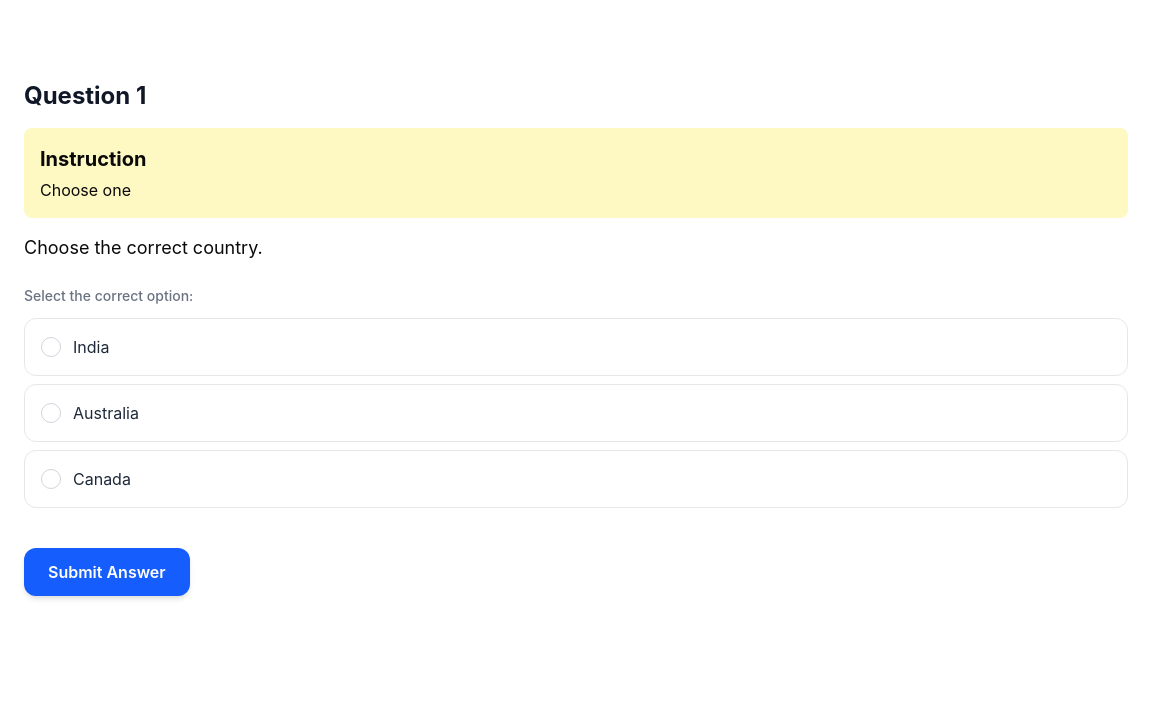
Scenario: QuestionPage - Reading & Listening MCQs › interacts and submits MCQ Single Choice question
Check: the text "Choose the correct country." is shown, box [24,237,263,258]
Note: Click Australia option
Click the text "Australia" at x=106, y=413, box [73,403,139,423]
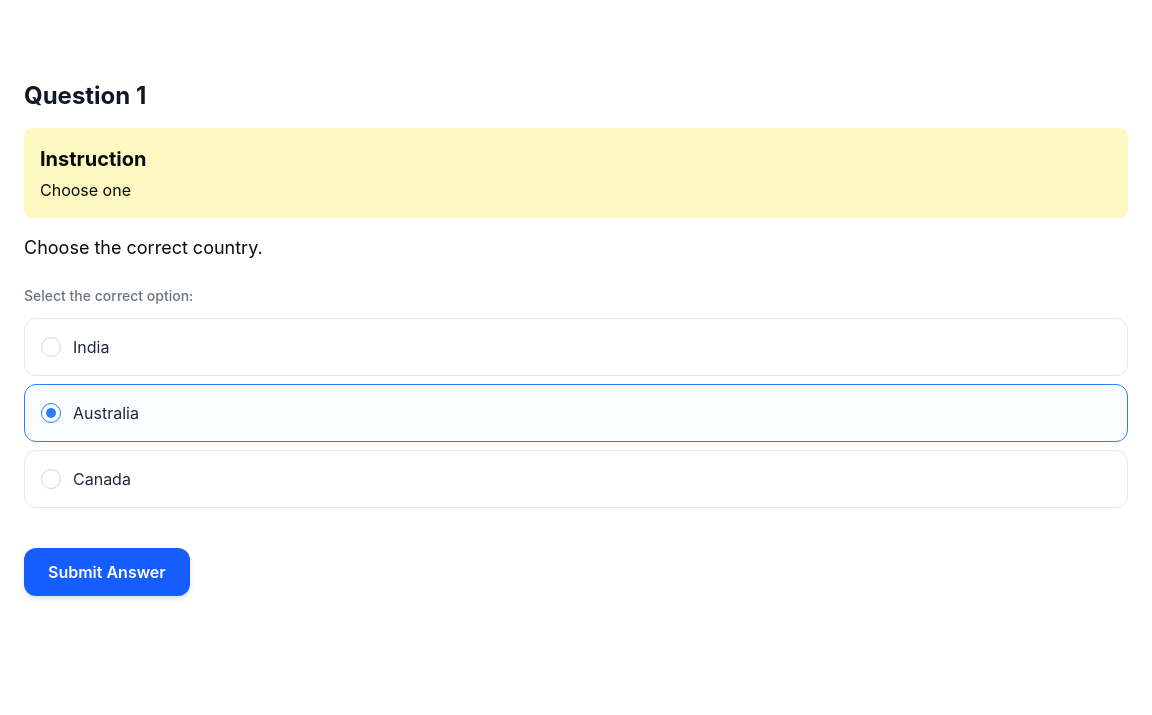
Note: Click Submit
Click the button "Submit Answer" at x=107, y=572, box [24,548,190,596]
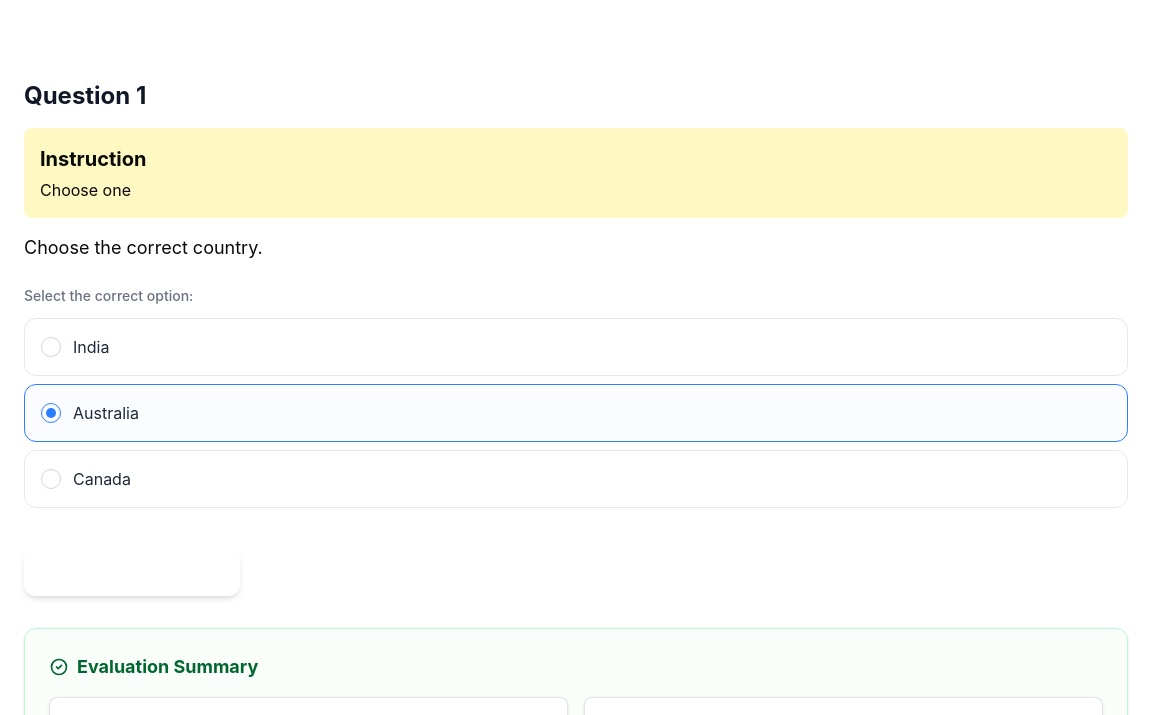
Check: the heading "Evaluation Summary" is shown, box [49,656,258,677]
Note: Click Retry
Click the button "Retry / Practice Again" at x=132, y=572, box [24,548,240,596]
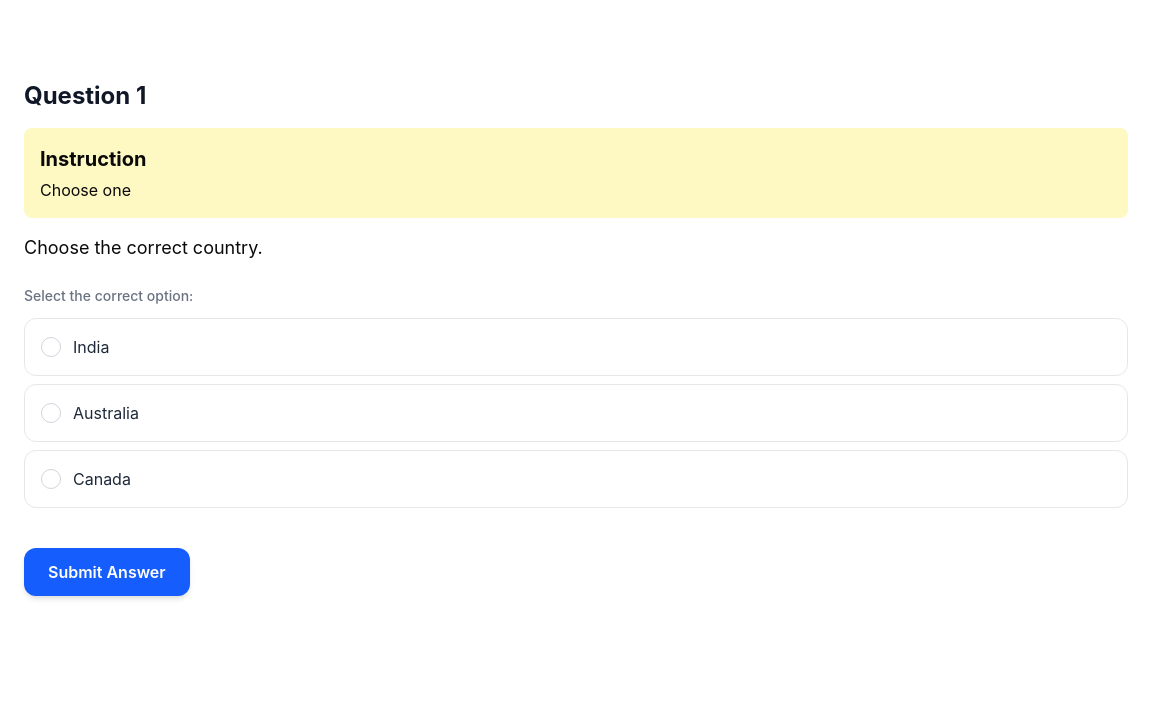
Check: the heading "Evaluation Summary" is gone
